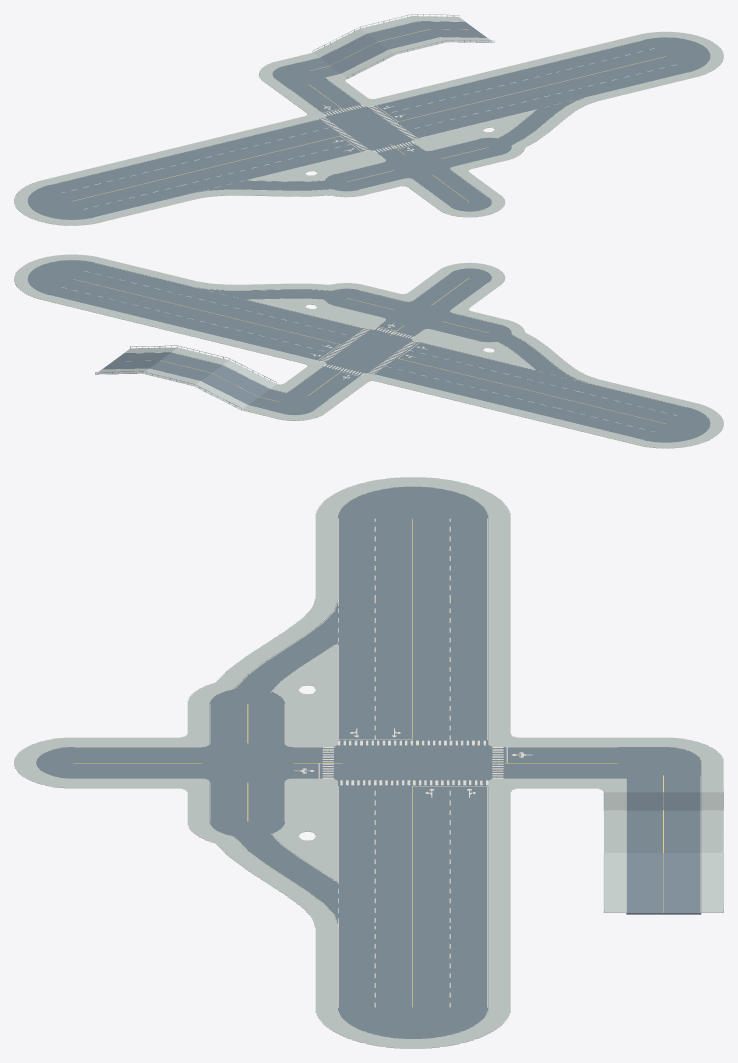
The model's file is network-w98-s59.glb.
3 renders of one model, top to bottom at view 1: azimuth 30°, elevation 25°; view 2: azimuth 150°, elevation 25°; view 3: azimuth 270°, elevation 25°, orthographic. The views are drawn at different scales.
Visible parts, largest first — view 1: Road_surface, Sidewalks, Lane_markings, Ramp_surface, Crosswalks, Bridge_railings; view 2: Road_surface, Sidewalks, Lane_markings, Ramp_surface, Crosswalks, Bridge_railings; view 3: Road_surface, Sidewalks, Ramp_surface, Lane_markings, Crosswalks.
Part boxes in pixels (x1,y1,x2,y2): Road_surface: [28, 21, 710, 219]; Sidewalks: [14, 16, 723, 225]; Lane_markings: [52, 21, 686, 216]; Ramp_surface: [320, 21, 486, 73]; Crosswalks: [320, 104, 417, 152]; Bridge_railings: [312, 14, 494, 78]; Road_surface: [27, 260, 710, 442]; Sidewalks: [14, 254, 723, 448]; Lane_markings: [52, 263, 686, 439]; Ramp_surface: [102, 352, 269, 404]; Crosswalks: [320, 327, 417, 375]; Bridge_railings: [95, 345, 276, 409]; Road_surface: [36, 487, 701, 1038]; Sidewalks: [14, 477, 723, 1048]; Ramp_surface: [626, 792, 701, 914]; Lane_markings: [73, 518, 700, 1007]; Crosswalks: [322, 740, 503, 785].
Bounding box in the file's own units: 350 × 7.51 × 184.
